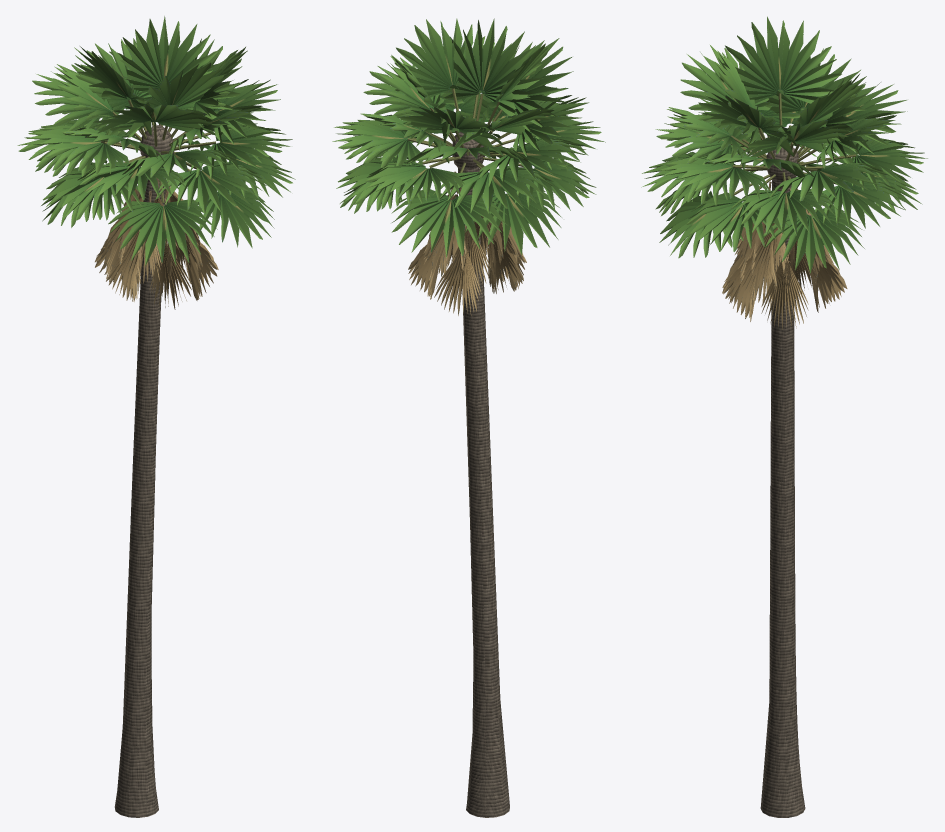
Rendered from vinish-fan-palm.glb.
3 renders of one model, left to right at view 1: azimuth 30°, elevation 25°; view 2: azimuth 150°, elevation 25°; view 3: azimuth 270°, elevation 25°, orthographic.
Visible parts, largest first — view 1: Crown, Trunk; view 2: Crown, Trunk; view 3: Crown, Trunk.
Part boxes in pixels (left/top/right/bottom): Crown: left=17, top=16, right=295, bottom=309; Trunk: left=114, top=178, right=165, bottom=817; Crown: left=332, top=18, right=605, bottom=315; Trunk: left=458, top=167, right=509, bottom=817; Crown: left=641, top=16, right=927, bottom=329; Trunk: left=760, top=180, right=805, bottom=817.
Size of the model in its own units: 4.82 by 14.88 by 5.11.
Materials: 5 (3 with a texture image).
